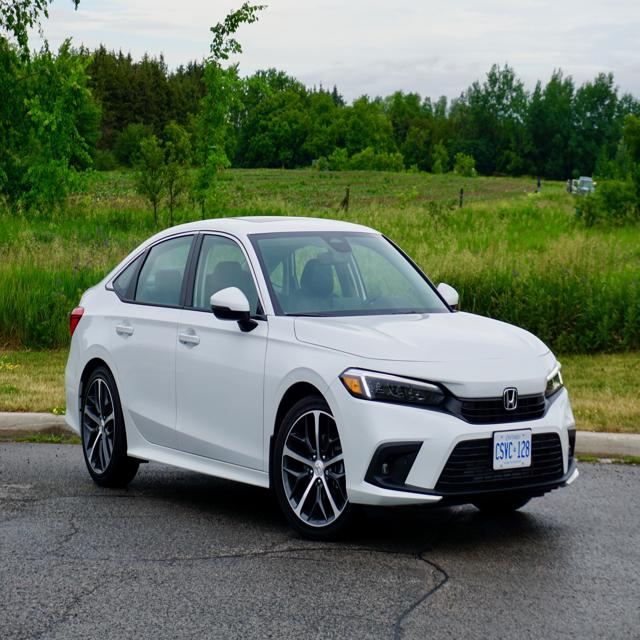car: (64, 217, 578, 537)
